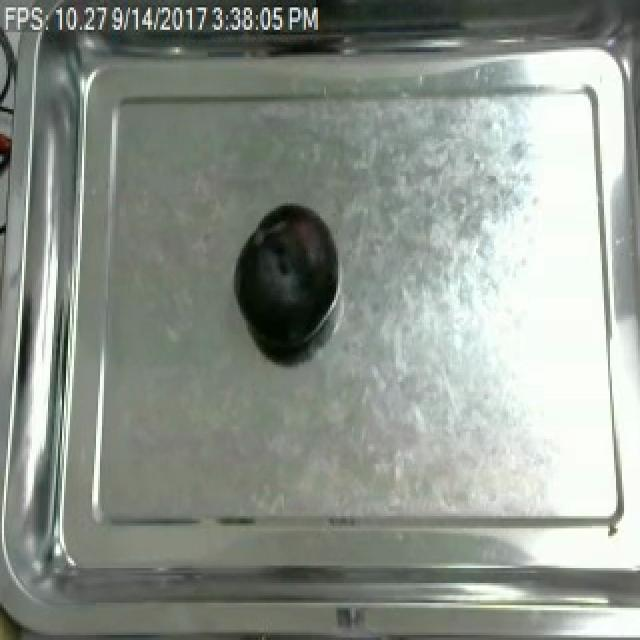Fruit: (230, 203, 342, 360)
